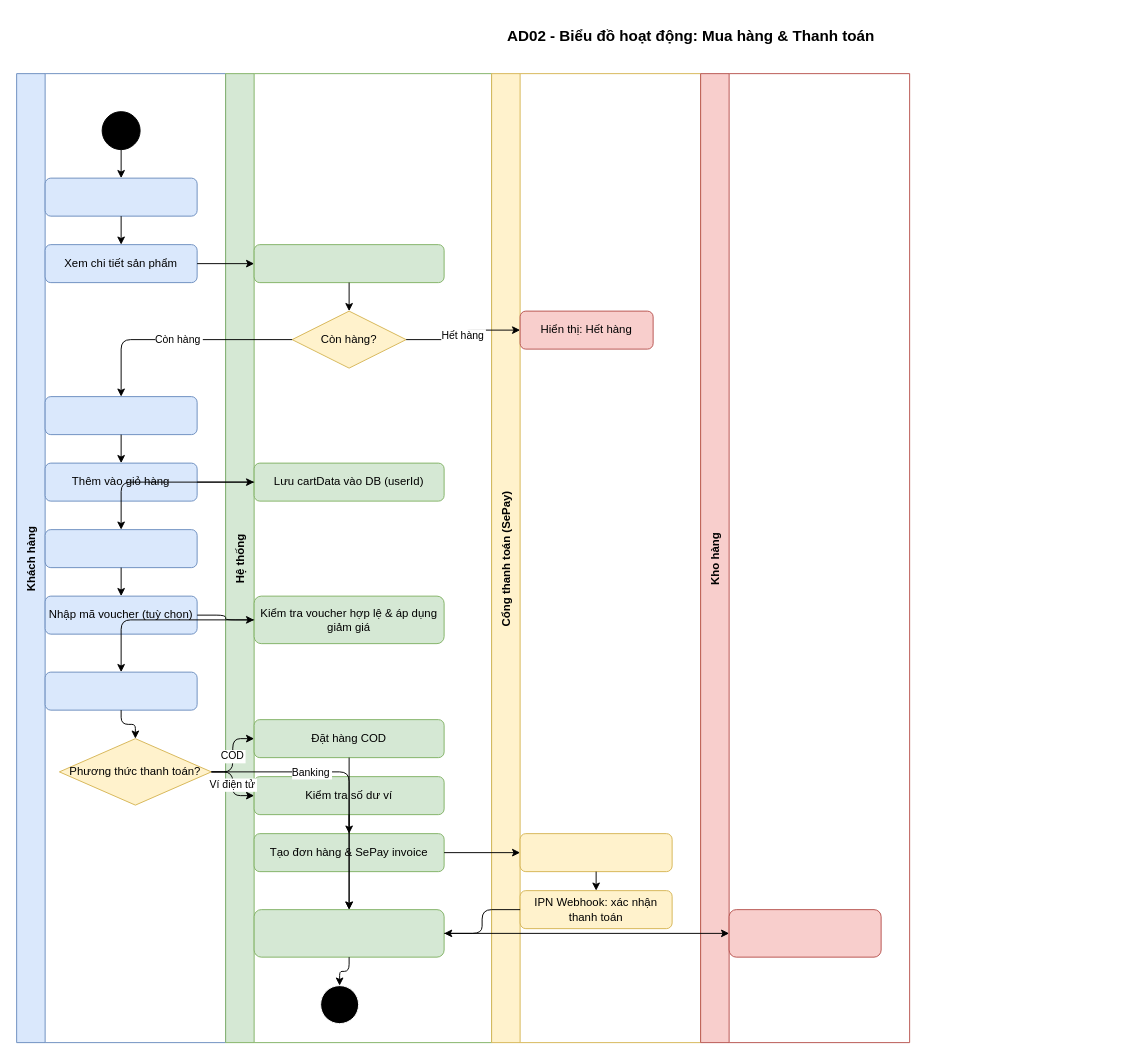
The diagram is 1135 pixels wide and 1059 high, and some of its shapes have lost their labels. Here are the shapes that lost their labels. From the top down, the box of each, then its label:
(44, 177, 197, 216): Duyệt / Tìm kiếm sản phẩm
(253, 244, 444, 283): Kiểm tra tồn kho theo size/màu
(44, 396, 197, 435): Chọn size, màu, số lượng
(44, 529, 197, 568): Xem giỏ hàng
(44, 671, 197, 710): Chọn / Nhập địa chỉ giao hàng
(519, 833, 672, 872): Hiển thị QR / form chuyển khoản
(253, 909, 444, 957): Tạo đơn hàng: status = Order Placed, Xoá giỏ hàng
(728, 909, 881, 957): Ghi nhận kế hoạch trừ kho (khi Packing)
